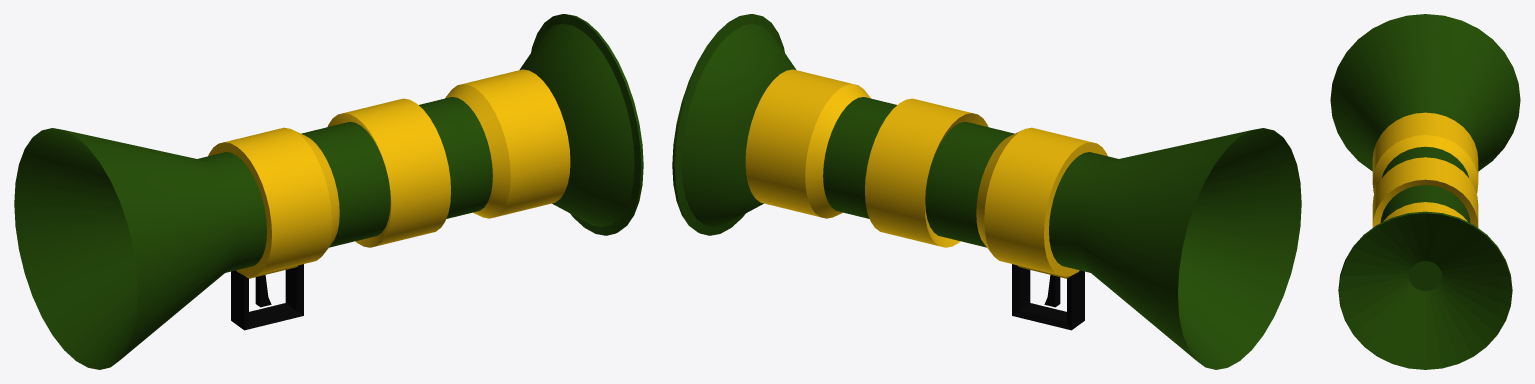
File: Bazooka.fbx
The picture shows the model from 3 angles, left to right: view 1: azimuth 30°, elevation 25°; view 2: azimuth 150°, elevation 25°; view 3: azimuth 270°, elevation 25°; orthographic projection. The views are drawn at different scales.
Parts seen in each view (by area): view 1: Bazooka; view 2: Bazooka; view 3: Bazooka.
Part boxes in pixels (x1,y1,x2,y2): Bazooka: (14, 14, 643, 369); Bazooka: (672, 14, 1301, 369); Bazooka: (1330, 14, 1520, 369).
Size of the model in its own units: 1001 by 427 by 420.
